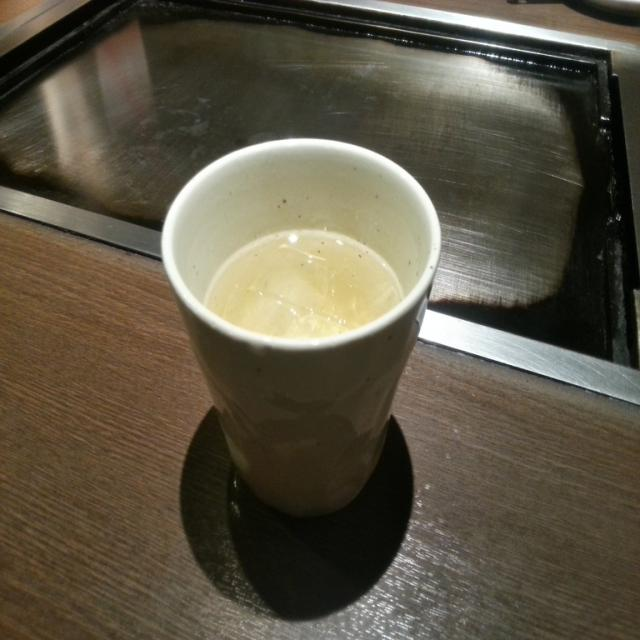Tea: (198, 228, 402, 342)
